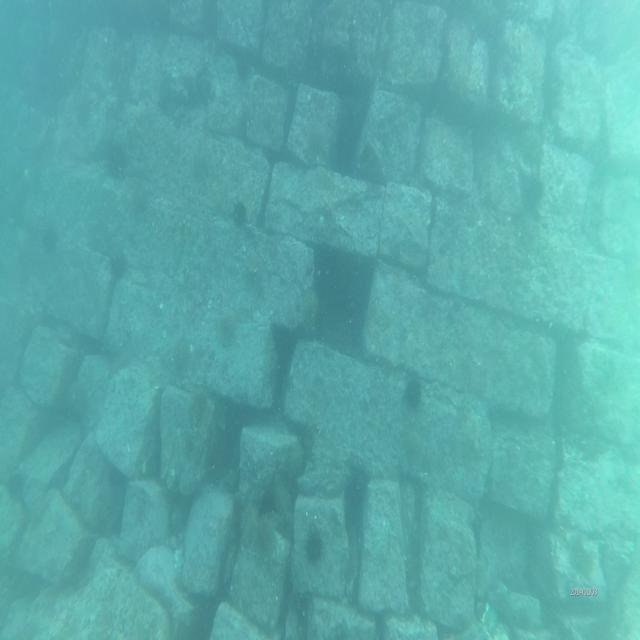echinus: (254, 506, 276, 562), (237, 494, 259, 546), (188, 382, 210, 426), (217, 309, 240, 351), (104, 142, 128, 180), (171, 331, 192, 371), (406, 370, 423, 406), (41, 225, 62, 254), (306, 527, 326, 557), (235, 199, 248, 224)
